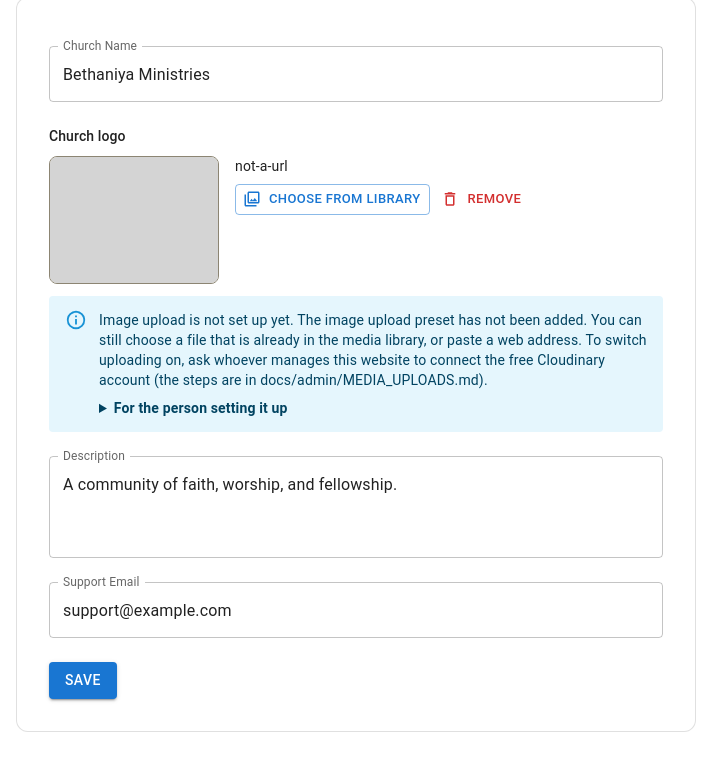
SettingsPage › blocks the confirm dialog for a stored logo address that is not http(s)
(page scrolled)
Click the button with test id "settings-save-button": x=83, y=680 [49, 662, 117, 698]
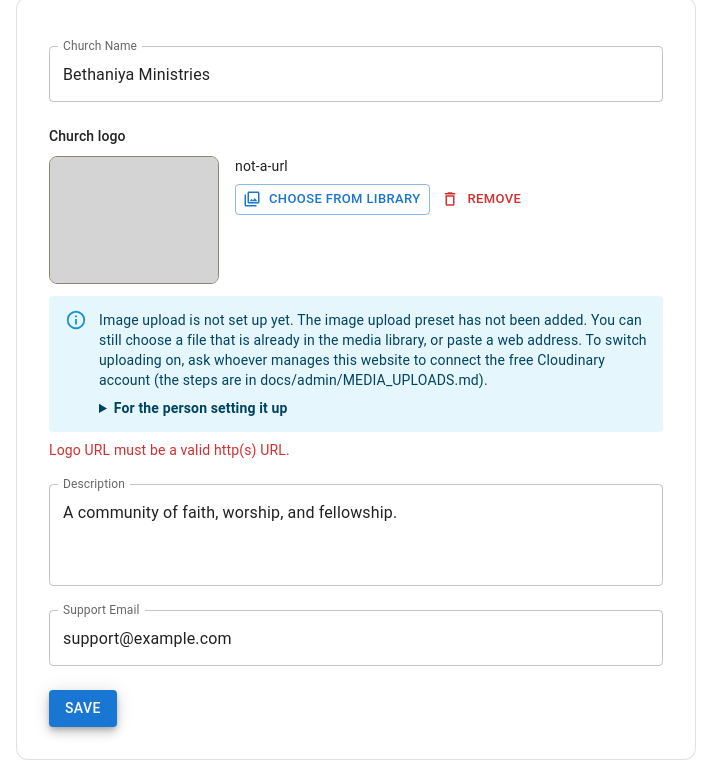
Expected: the text "Logo URL must be a valid http(s) URL." is shown, [49, 442, 290, 458]
